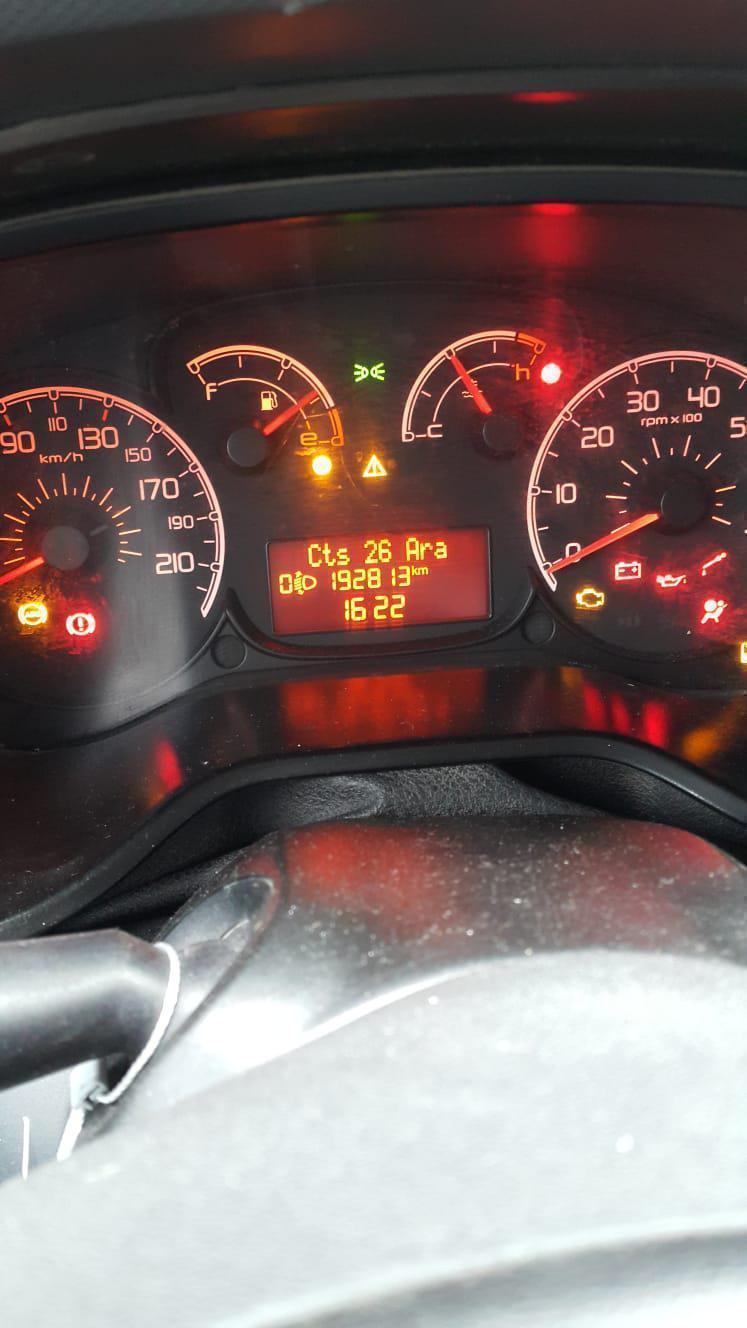0: (278, 572, 292, 594)
1: (341, 598, 350, 622), (330, 570, 337, 590), (390, 566, 396, 586)
2: (374, 593, 389, 620), (391, 591, 405, 619), (363, 537, 378, 563), (353, 567, 365, 589)
3: (397, 565, 410, 586)
6: (350, 595, 366, 622), (378, 538, 392, 562)
8: (367, 566, 381, 588)
9: (337, 569, 351, 591)
X: (405, 535, 420, 561), (307, 543, 322, 567), (322, 542, 336, 566), (336, 546, 350, 565), (419, 540, 432, 559), (434, 541, 446, 558), (418, 565, 428, 575), (411, 564, 419, 575)
odometer: (267, 524, 494, 635)
